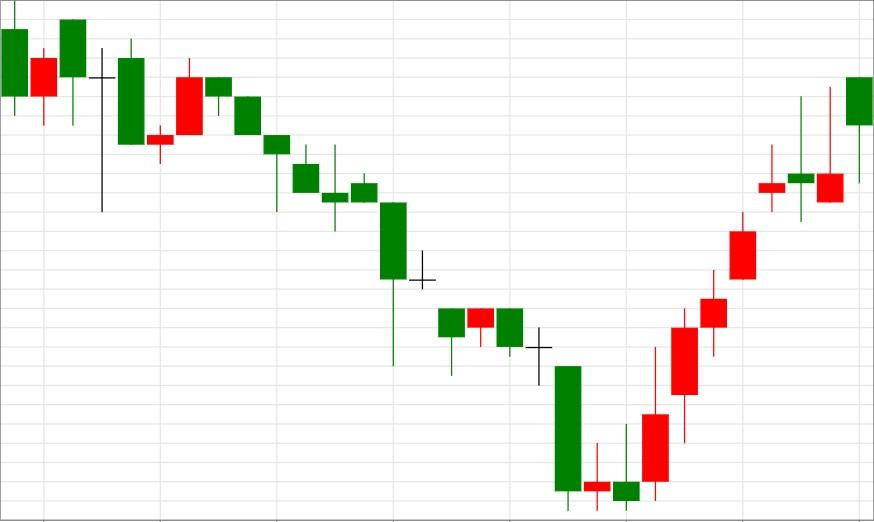three_black_crows_fall: (146, 58, 291, 212)
three_white_soldiers_rise: (466, 269, 727, 512)
